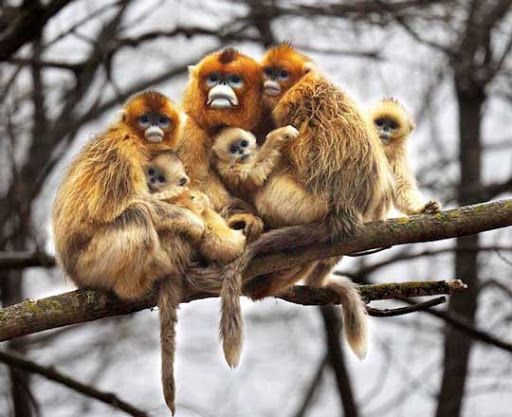GoldenSnub-Nosed: (55, 101, 191, 289), (265, 44, 383, 226), (178, 52, 266, 185), (146, 154, 238, 233), (212, 123, 291, 196), (372, 103, 420, 192)
